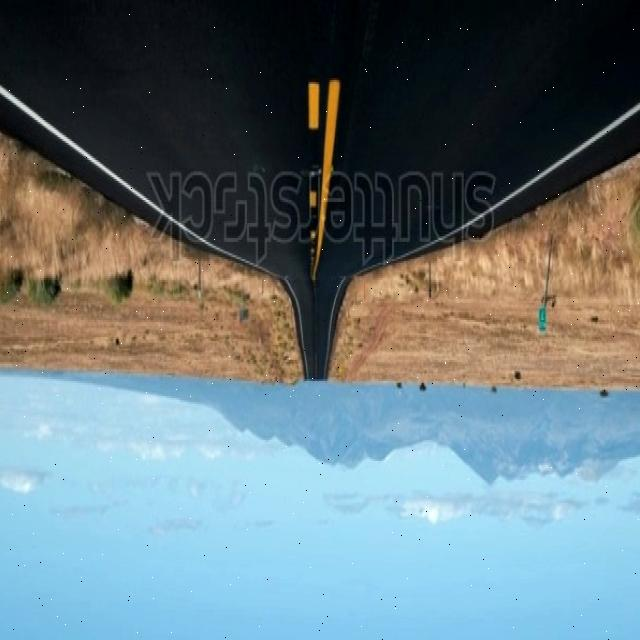lane: (309, 84, 320, 130)
road: (1, 4, 640, 379)
